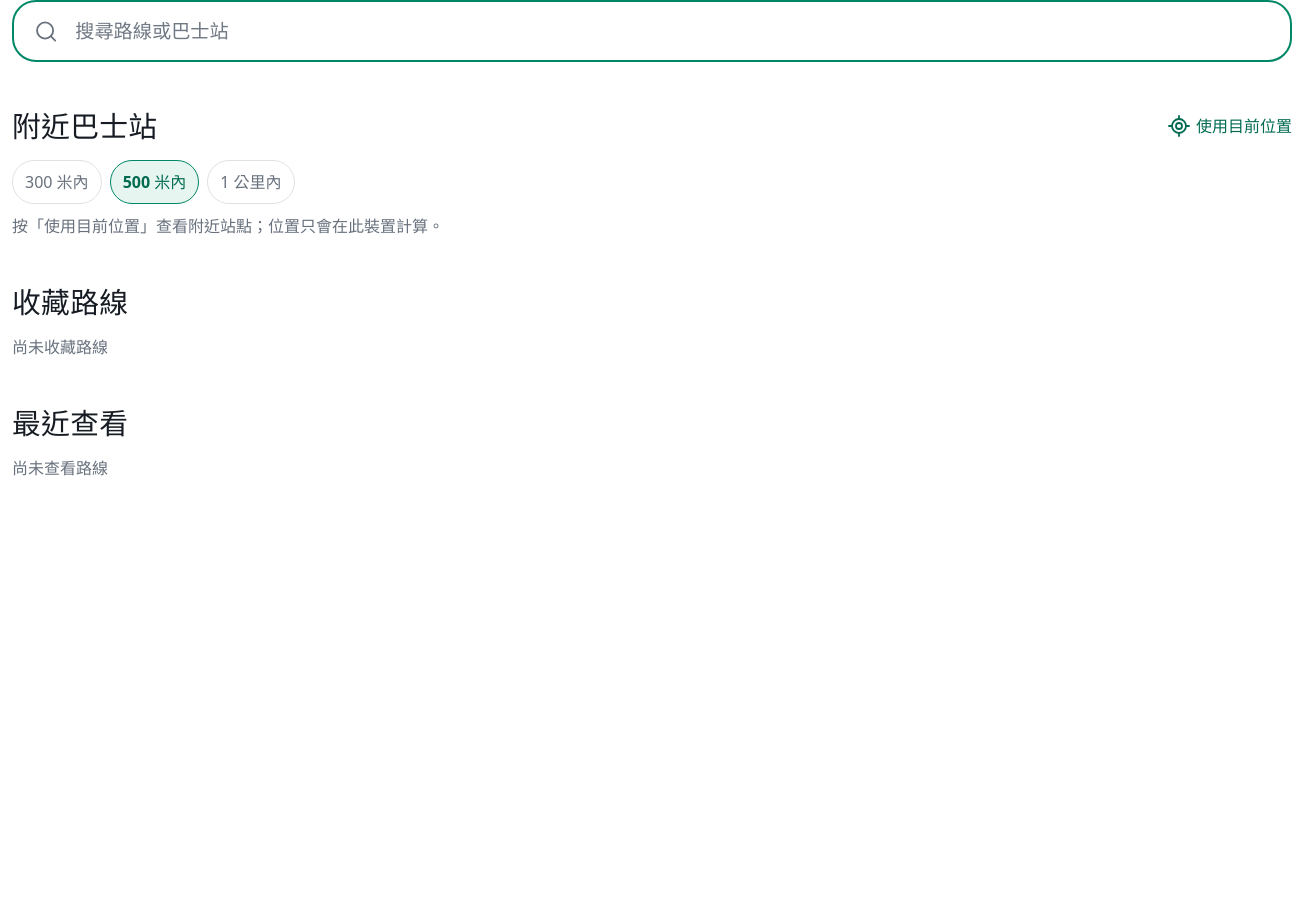
HomePage › filters the real catalog by route name and opens the selected route
Later steps or results of the test are not shown.
Step 1. Type "測試線" into the search field labelled "搜尋路線或巴士站" → (672, 31), box top-left (73, 16), bottom-right (1270, 46)
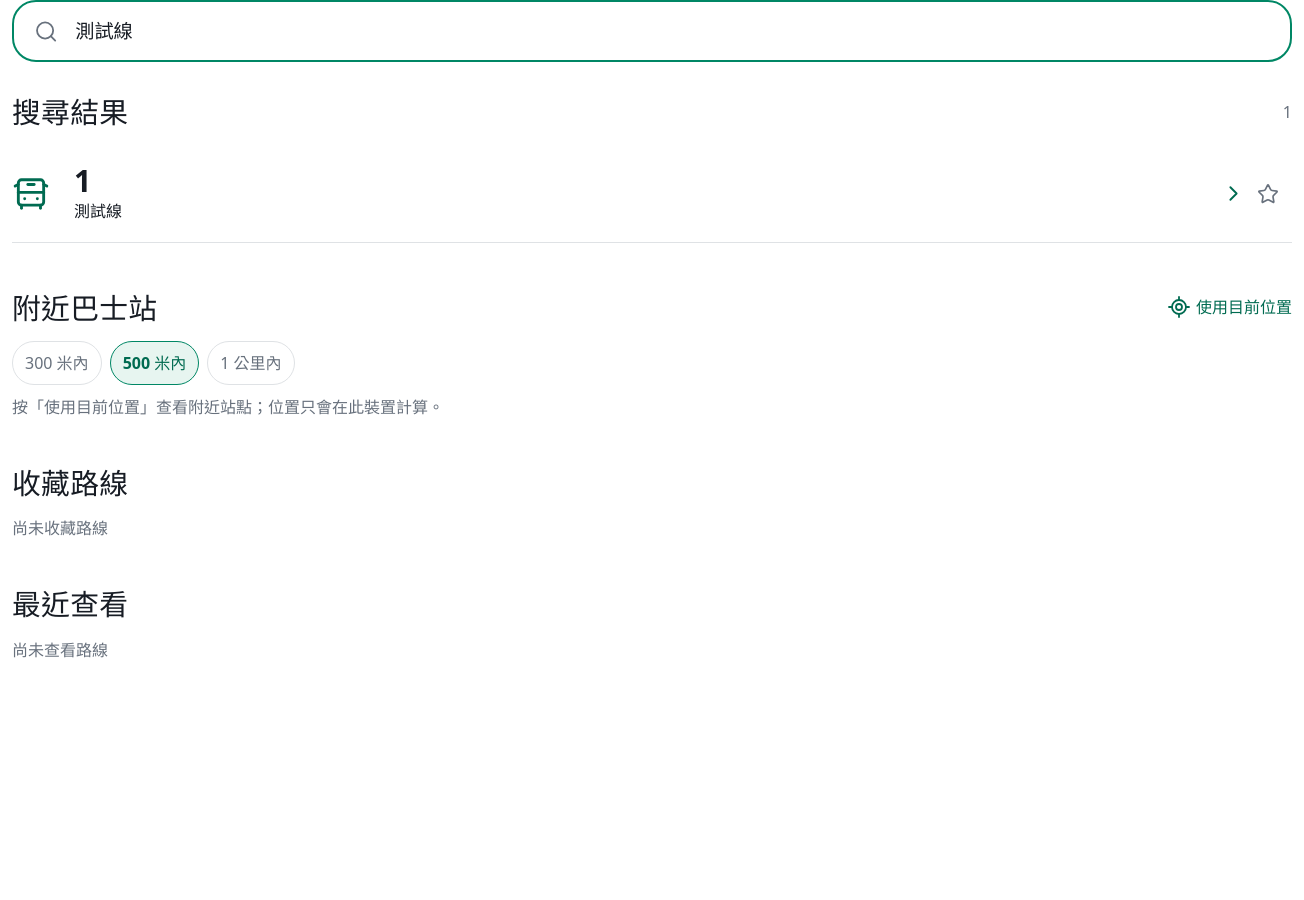
Check: the button "1 測試線" is shown, box top-left (12, 154), bottom-right (1246, 233)
